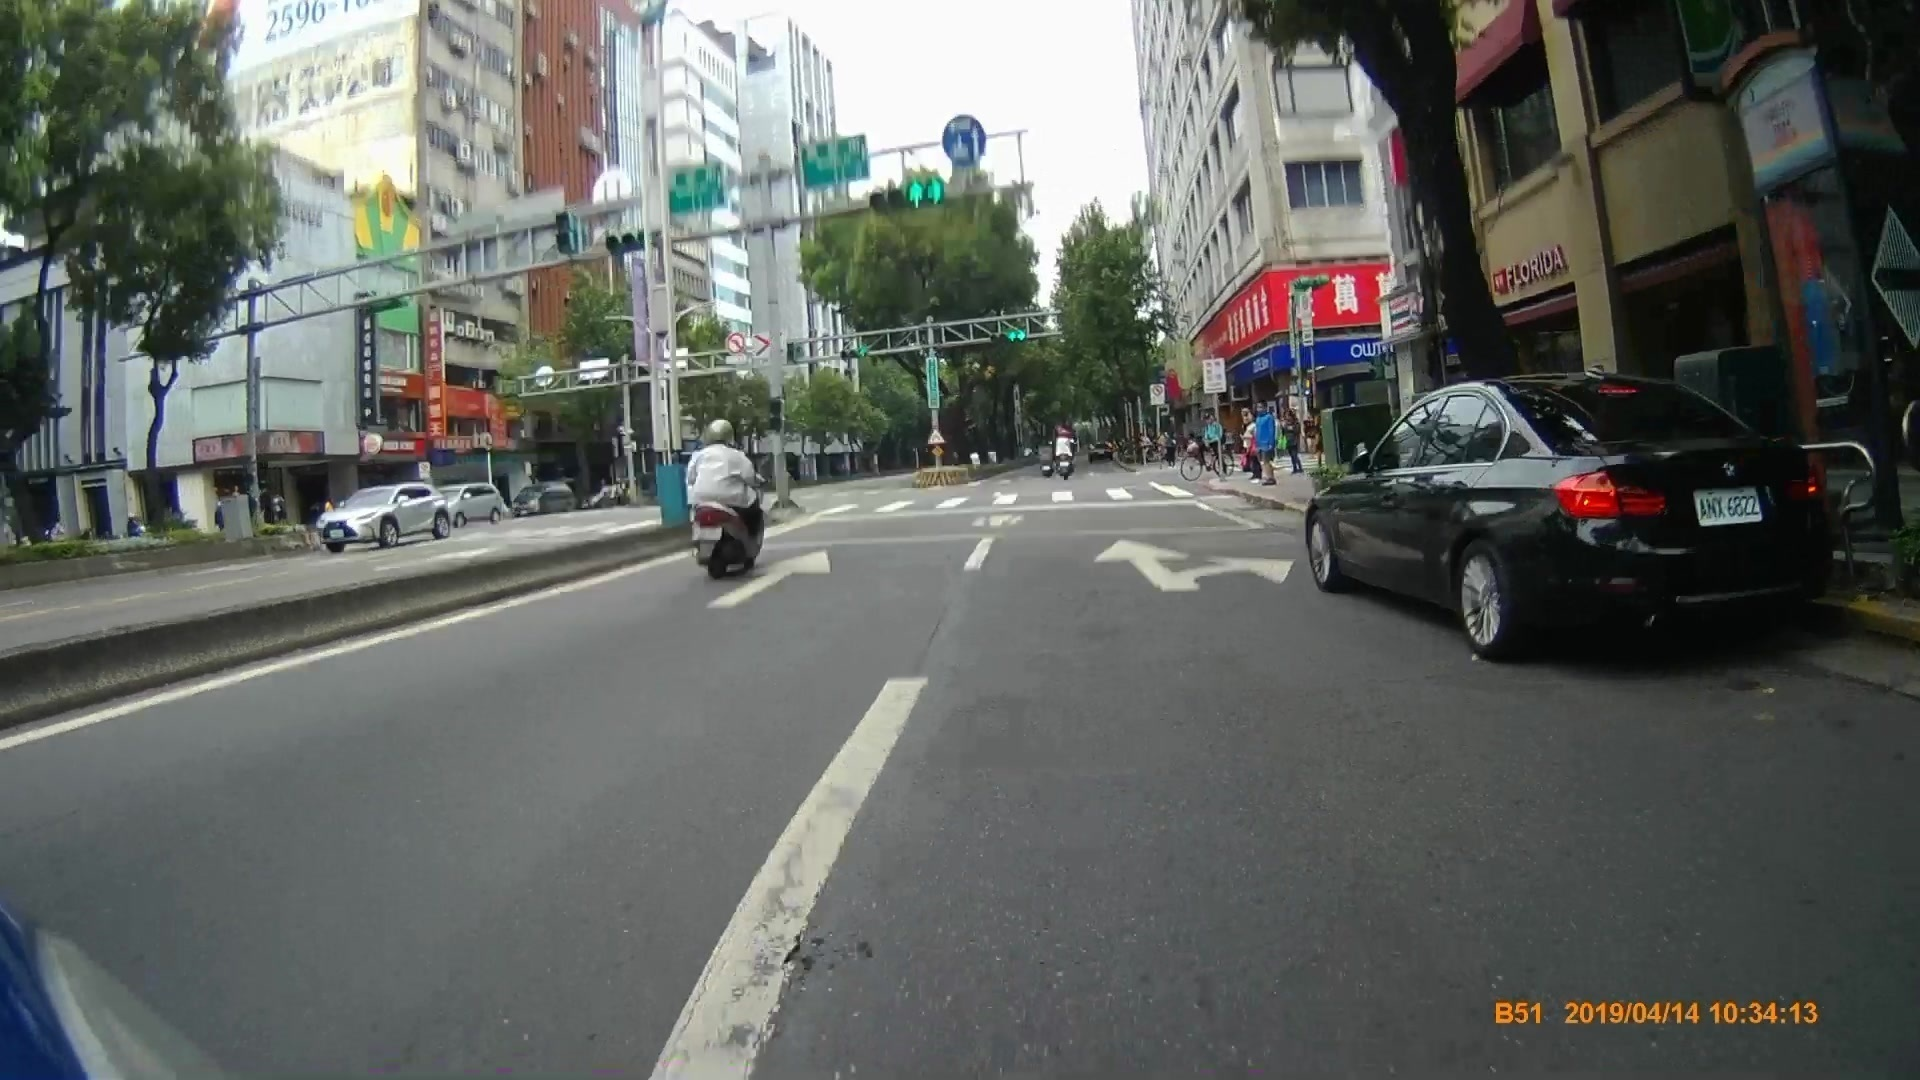License_plate: (1693, 486, 1768, 525)
